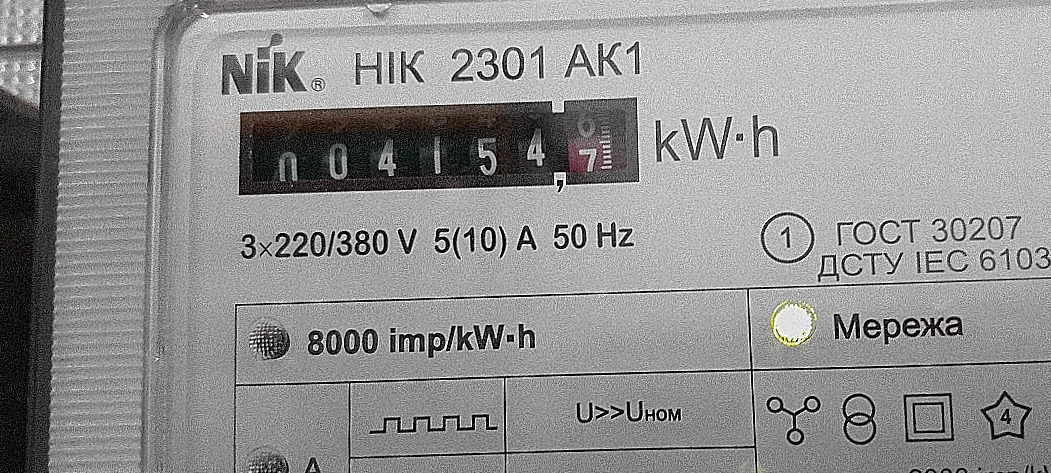0: (326, 139, 349, 181), (276, 146, 299, 181)
1: (430, 133, 444, 175)
4: (374, 136, 398, 178), (524, 123, 546, 168)
5: (475, 131, 500, 176)
6: (575, 108, 598, 138)
7: (576, 144, 598, 173)
screen: (221, 82, 657, 208)
